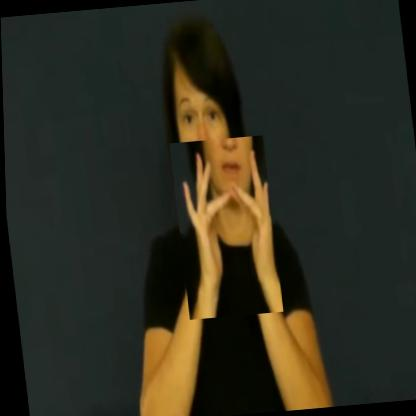Internet: (168, 135, 281, 320)
